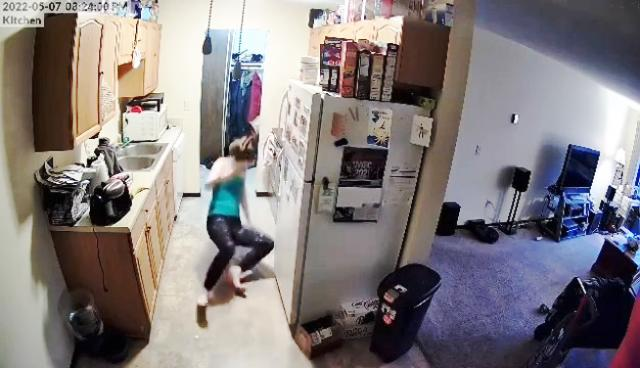jatuh: (188, 135, 276, 333)
